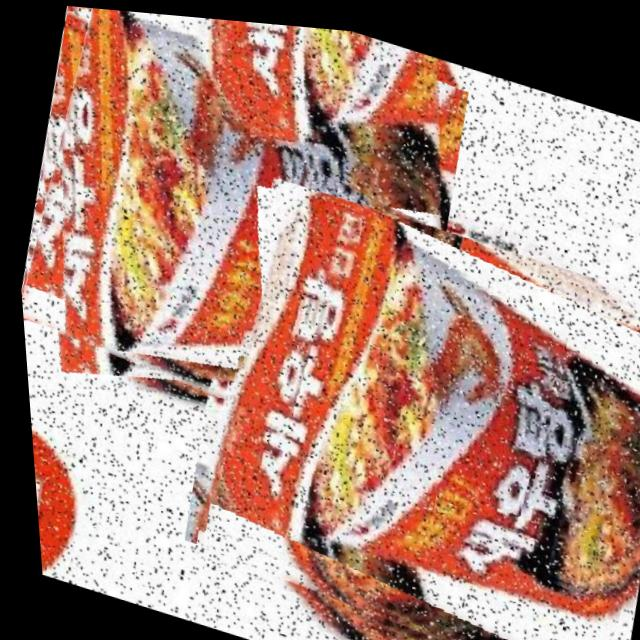Miscellaneous: (0, 0, 495, 472), (163, 160, 640, 640)
